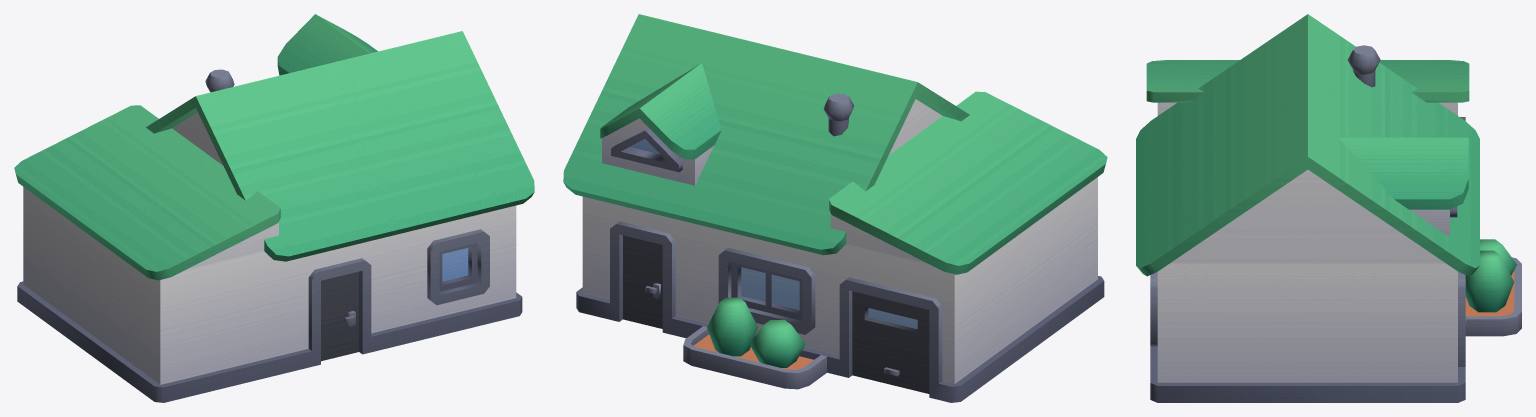
Rendered from Building14.glb.
3 views of the same model, side by side, from view 1: azimuth 30°, elevation 25°; view 2: azimuth 150°, elevation 25°; view 3: azimuth 270°, elevation 25° (orthographic). The views are drawn at different scales.
Parts seen in each view (by area): view 1: building-type-i; view 2: building-type-i; view 3: building-type-i.
Boxes of the visible parts, x1,y1,x2,y2 form: building-type-i: (14, 14, 534, 402); building-type-i: (563, 14, 1107, 402); building-type-i: (1136, 14, 1521, 402).
Size of the model in its own units: 1.29 by 0.7375 by 1.03.
Materials: 1 (1 with a texture image).
